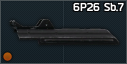AKS-74U dust cover 6P26 Sb.7: (0, 0, 127, 64)
